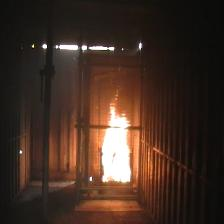fire: (102, 104, 131, 182)
